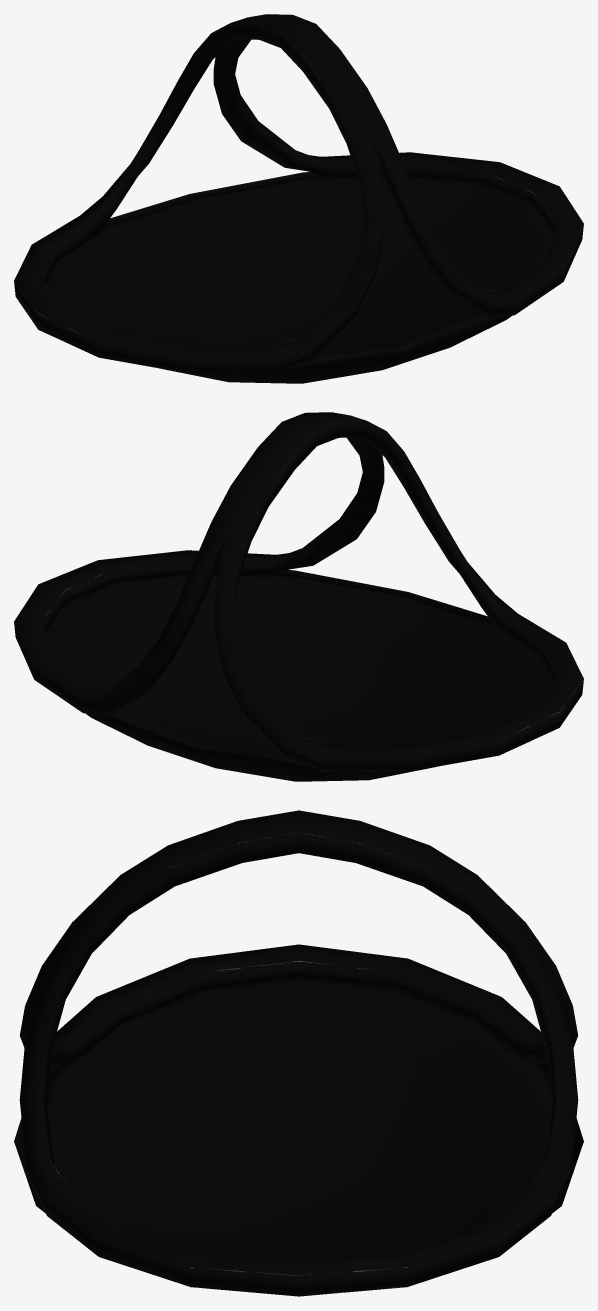
File: basket.glb
3 views of the same model, one above another, from view 1: azimuth 30°, elevation 25°; view 2: azimuth 150°, elevation 25°; view 3: azimuth 270°, elevation 25° (orthographic). The views are drawn at different scales.
Visible parts, largest first — view 1: node_id36, node_id34; view 2: node_id36, node_id34; view 3: node_id36, node_id34.
Part boxes in pixels (box(x1,y1,x2,y2)): node_id36: box(16, 172, 581, 383); node_id34: box(14, 14, 583, 373); node_id36: box(16, 570, 581, 781); node_id34: box(14, 412, 583, 771); node_id36: box(14, 979, 583, 1293); node_id34: box(19, 810, 578, 1296).
Bounding box in the file's own units: 0.512 × 0.2865 × 0.3723.
Materials: 2 (2 with a texture image).
